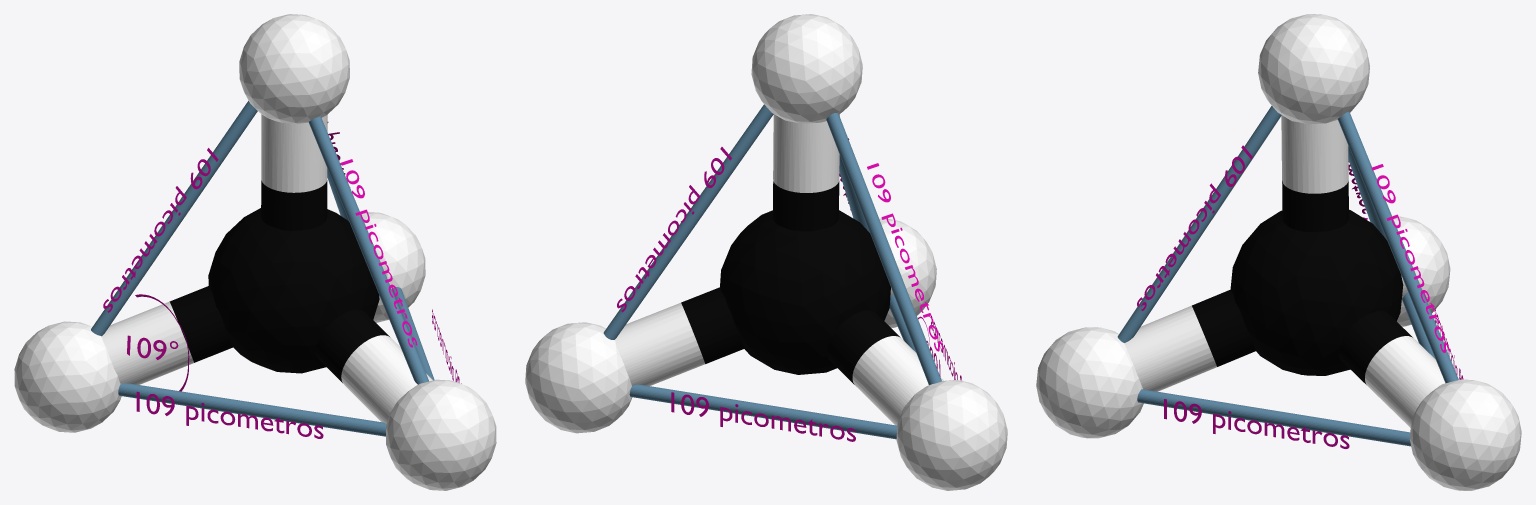
The model's file is metano.glb.
The picture shows the model from 3 angles, left to right: view 1: azimuth 30°, elevation 25°; view 2: azimuth 150°, elevation 25°; view 3: azimuth 270°, elevation 25°; orthographic projection.
Parts seen in each view (by area): view 1: Shape_IndexedFaceSet.002, Shape_IndexedFaceSet.012, Cylinder.003, Cylinder.005, Cylinder.002, Text, Text.003, Text.005, Cylinder; view 2: Shape_IndexedFaceSet.002, Shape_IndexedFaceSet.012, Cylinder.002, Cylinder.001, Cylinder.004, Text.002, Text.004, Text.003, Cylinder.003; view 3: Shape_IndexedFaceSet.002, Shape_IndexedFaceSet.012, Cylinder.001, Cylinder, Cylinder.003, Text.001, Text.005, Text.004, Cylinder.002, Cylinder.004.
Boxes of the visible parts, x1=… form: Shape_IndexedFaceSet.002: x1=14, y1=14, x2=496, y2=490; Shape_IndexedFaceSet.012: x1=169, y1=180, x2=389, y2=382; Cylinder.003: x1=308, y1=116, x2=428, y2=384; Cylinder.005: x1=118, y1=383, x2=386, y2=436; Cylinder.002: x1=91, y1=101, x2=257, y2=336; Text: x1=136, y1=391, x2=323, y2=438; Text.003: x1=103, y1=148, x2=218, y2=312; Text.005: x1=341, y1=159, x2=417, y2=347; Cylinder: x1=392, y1=287, x2=434, y2=380; Shape_IndexedFaceSet.002: x1=525, y1=14, x2=1007, y2=490; Shape_IndexedFaceSet.012: x1=681, y1=181, x2=900, y2=384; Cylinder.002: x1=826, y1=113, x2=941, y2=384; Cylinder.001: x1=603, y1=104, x2=773, y2=339; Cylinder.004: x1=629, y1=384, x2=897, y2=439; Text.002: x1=671, y1=392, x2=855, y2=441; Text.004: x1=617, y1=147, x2=731, y2=312; Text.003: x1=867, y1=163, x2=943, y2=351; Cylinder.003: x1=839, y1=155, x2=869, y2=232; Shape_IndexedFaceSet.002: x1=1036, y1=14, x2=1521, y2=490; Shape_IndexedFaceSet.012: x1=1192, y1=181, x2=1412, y2=384; Cylinder.001: x1=1337, y1=111, x2=1458, y2=383; Cylinder: x1=1137, y1=389, x2=1411, y2=446; Cylinder.003: x1=1117, y1=106, x2=1281, y2=342; Text.001: x1=1164, y1=399, x2=1349, y2=448; Text.005: x1=1137, y1=145, x2=1252, y2=310; Text.004: x1=1371, y1=164, x2=1449, y2=352; Cylinder.002: x1=1348, y1=146, x2=1386, y2=239; Cylinder.004: x1=1402, y1=292, x2=1435, y2=358.
Bounding box in the file's own units: 15.52 × 13.55 × 15.01.
